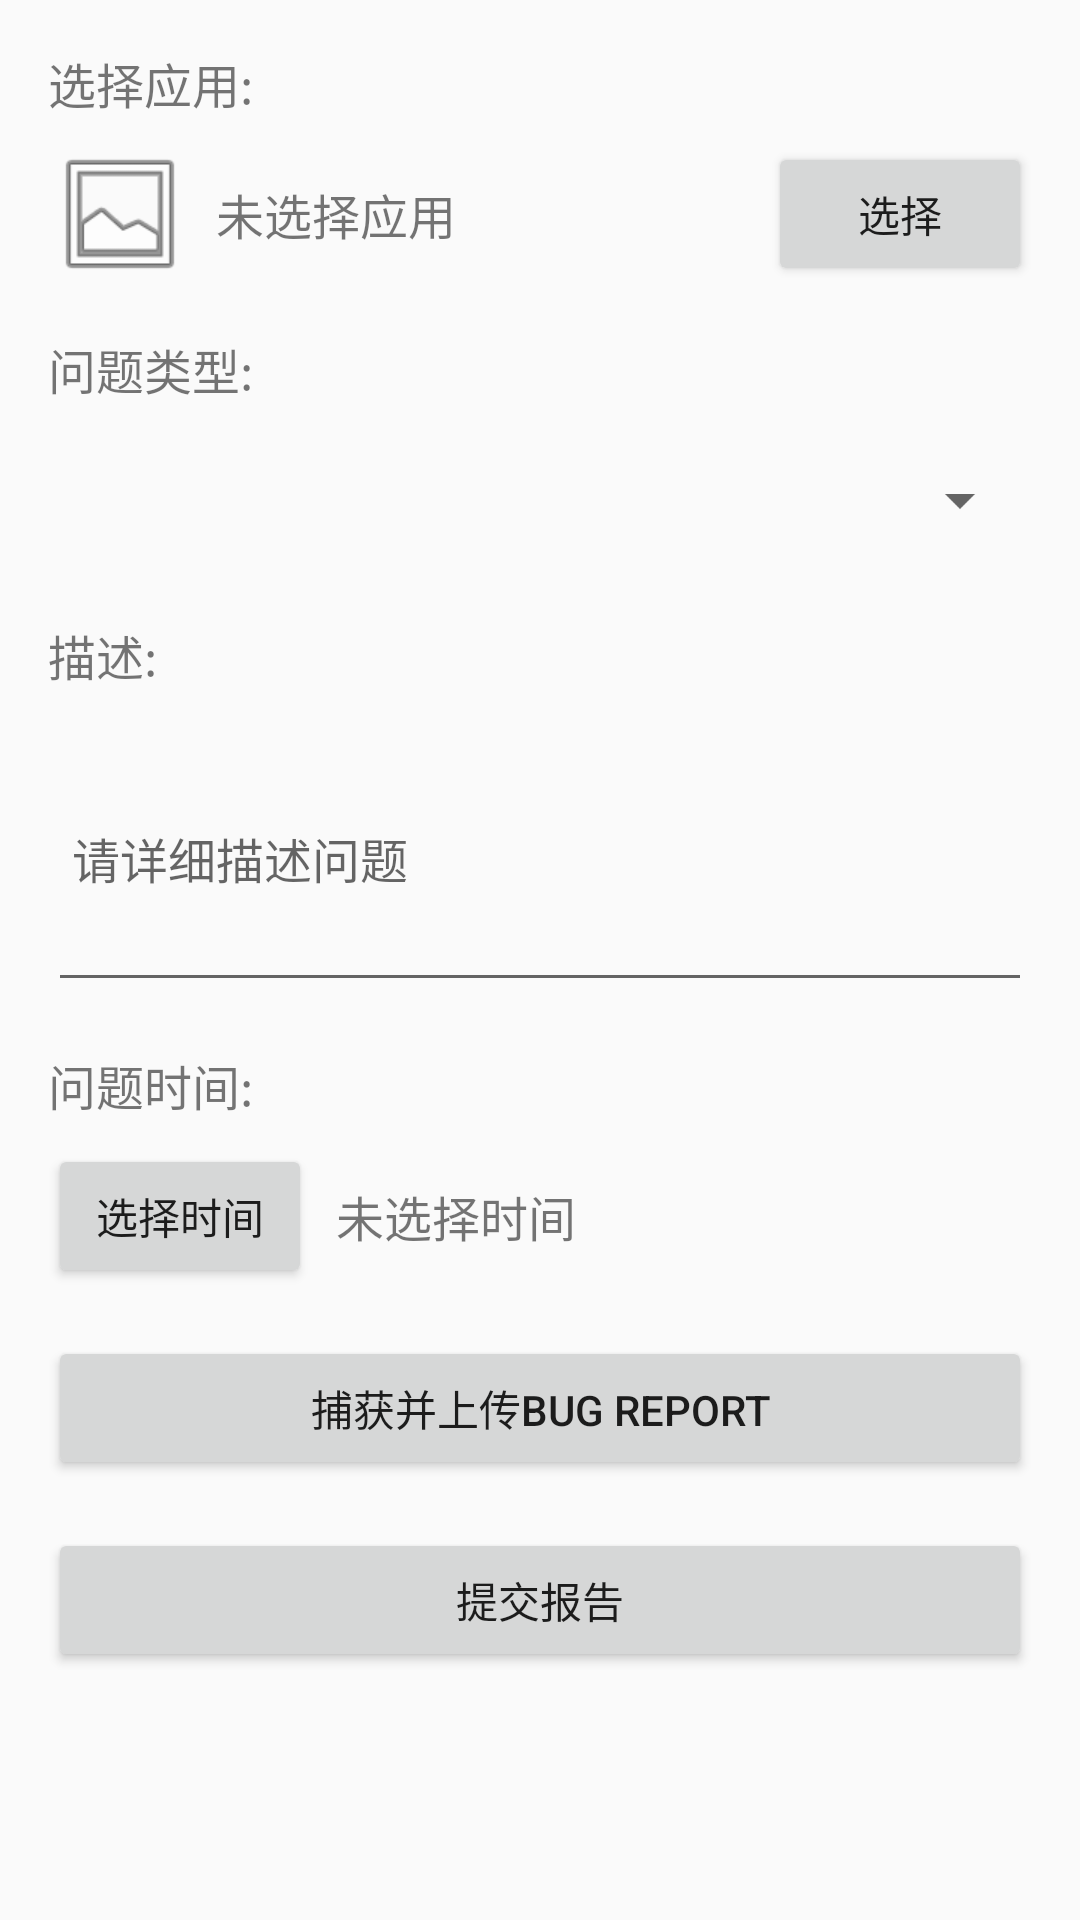

Icon bounding boxes for this 1080px x 1920px phone screenshot, format box=[x1, y1, x2, y2]:
gallery: box=[66, 160, 174, 268]
